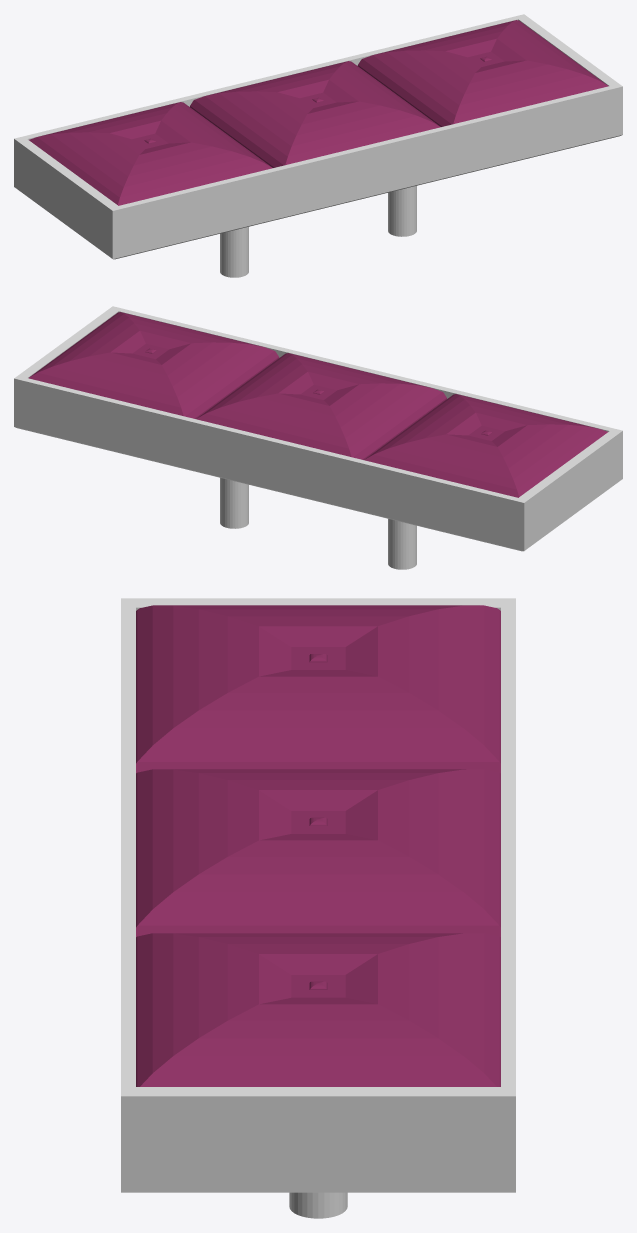
File: BenchJ.fbx
3 views of the same model, one above another, from view 1: azimuth 30°, elevation 25°; view 2: azimuth 150°, elevation 25°; view 3: azimuth 270°, elevation 25° (orthographic). The views are drawn at different scales.
Visible parts, largest first — view 1: Cube, Cube.001, Cylinder, Cylinder.001; view 2: Cube, Cube.001, Cylinder.001, Cylinder; view 3: Cube, Cube.001, Cylinder.001.
Part boxes in pixels (x1,y1,x2,y2): Cube: (29, 20, 608, 205); Cube.001: (14, 14, 622, 259); Cylinder: (220, 226, 248, 277); Cylinder.001: (388, 186, 416, 236); Cube: (28, 312, 607, 497); Cube.001: (14, 306, 622, 551); Cylinder.001: (220, 478, 248, 528); Cylinder: (388, 519, 416, 569); Cube: (136, 605, 500, 1086); Cube.001: (121, 598, 515, 1192); Cylinder.001: (289, 1192, 347, 1218).
Size of the model in its own units: 608 by 204 by 176.
